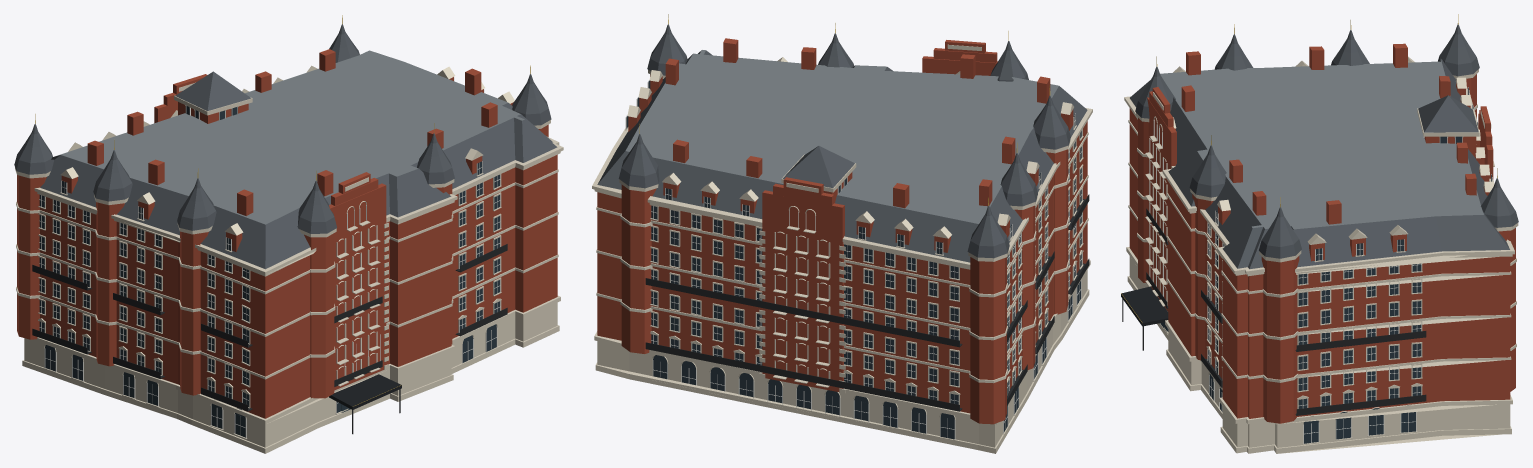
File: mandarin_oriental_hyde_park.glb
The picture shows the model from 3 angles, left to right: view 1: azimuth 30°, elevation 25°; view 2: azimuth 150°, elevation 25°; view 3: azimuth 270°, elevation 25°; orthographic projection.
Size of the model in its own units: 70.99 by 41.77 by 55.01.
